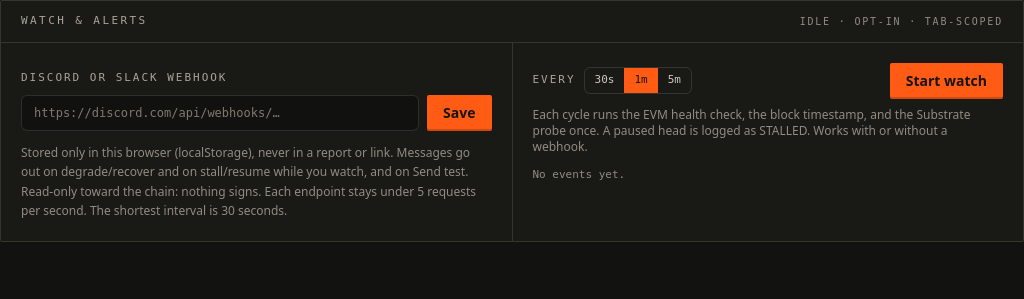
Test: WatchAlertsPanel › rejects a non-webhook URL and saves a Discord one masked
In the field labelled "Discord or Slack webhook": (220, 112) [21,94,419,130], type "https://example.com/x"
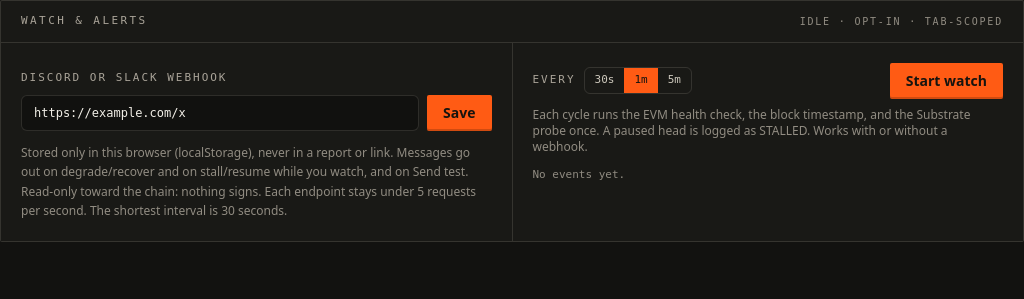
Click the button "Save": (459, 112) [427,94,492,130]
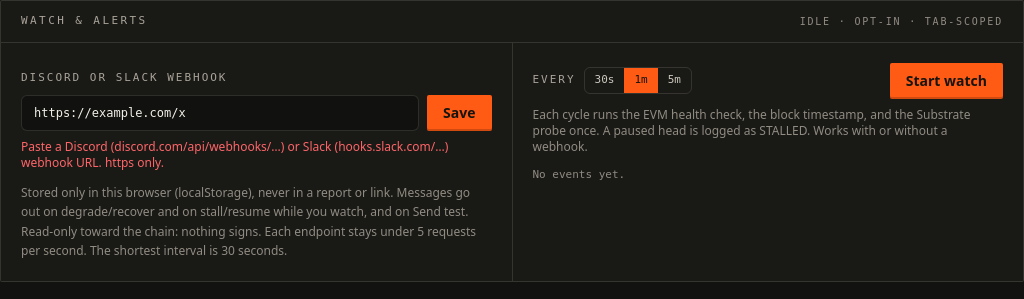
Now the message shows "Discord", box [21,138,448,170]
Replace the text in the field labelled "Discord or Slack webhook" with "https://discord.com/api/webhooks/123/SECRETTOKEN": (220, 112) [21,94,419,130]
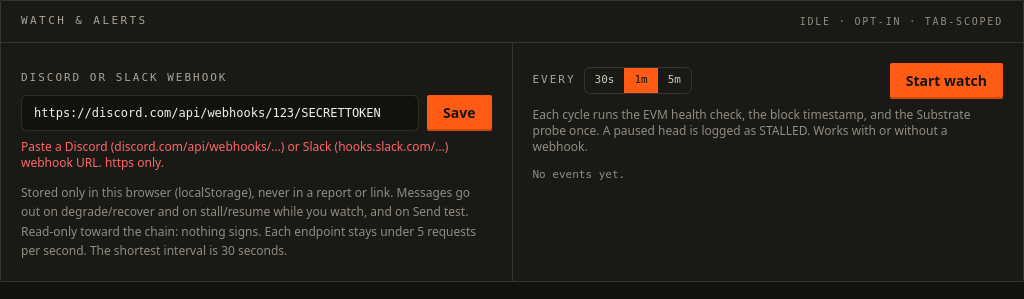
Click the button "Save": (459, 112) [427,94,492,130]
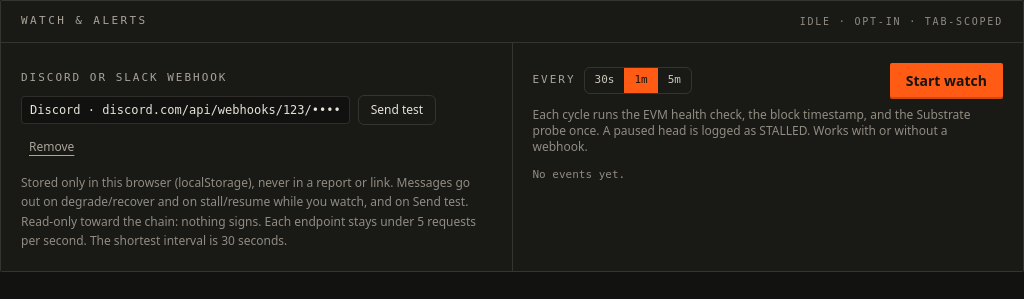
Expected: the text "SECRETTOKEN" is not shown
Now the button "Send test" is shown, box [358,94,436,124]
